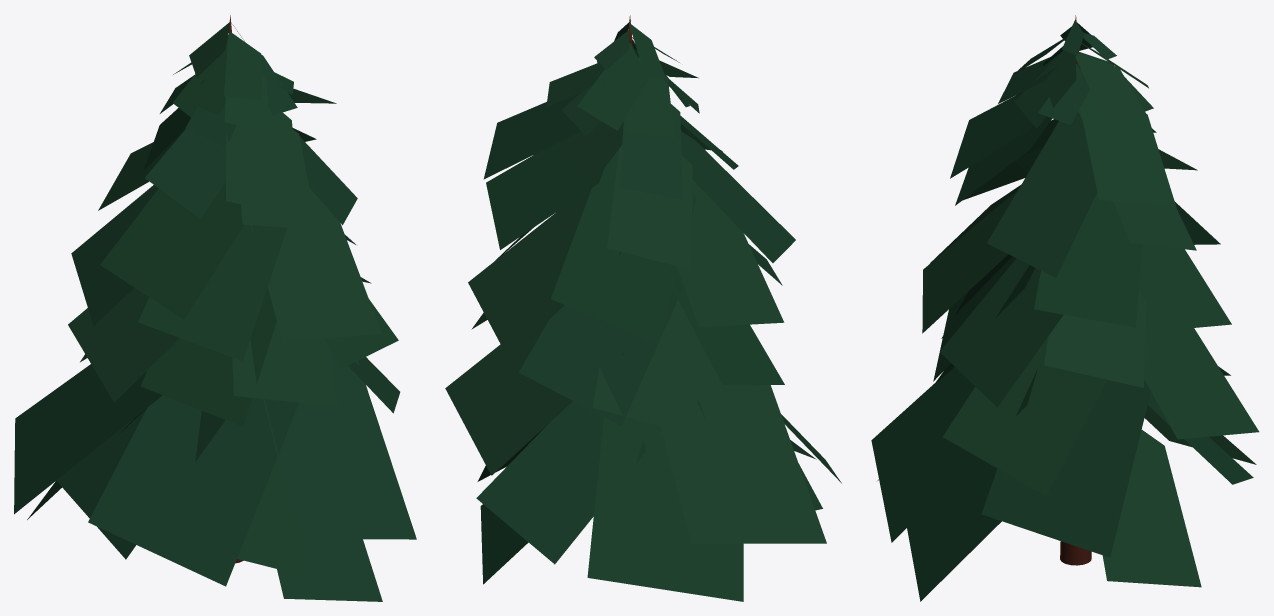
Rendered from SM_PineTree_New.fbx.
3 renders of one model, left to right at view 1: azimuth 30°, elevation 25°; view 2: azimuth 150°, elevation 25°; view 3: azimuth 270°, elevation 25°, orthographic. The views are drawn at different scales.
Parts seen in each view (by area): view 1: SM_PineTree_New; view 2: SM_PineTree_New; view 3: SM_PineTree_New.
Boxes of the visible parts, box(x1,y1,x2,y2) form: SM_PineTree_New: box(14, 15, 416, 601); SM_PineTree_New: box(445, 15, 841, 601); SM_PineTree_New: box(871, 15, 1259, 601).
Size of the model in its own units: 692 by 1011 by 645.
